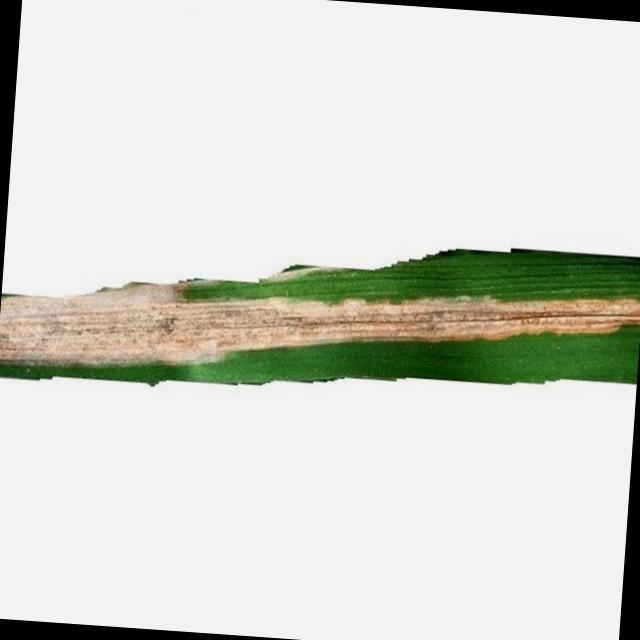leaf_blight: (0, 251, 640, 385)
